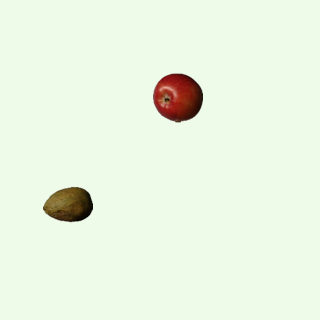Apple Braeburn: (152, 72, 202, 122)
Papaya: (42, 179, 92, 229)
